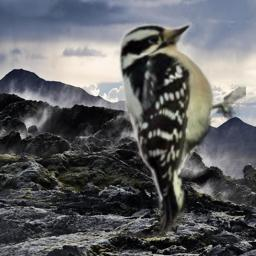Woodpecker: (116, 19, 246, 234)
